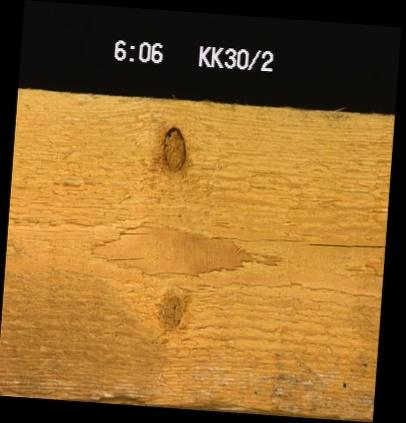dry_knot: (158, 125, 186, 174)
sound_knot: (155, 290, 187, 333)
split: (306, 240, 383, 249), (104, 253, 142, 261), (116, 228, 150, 236)
wave: (88, 393, 240, 406)
